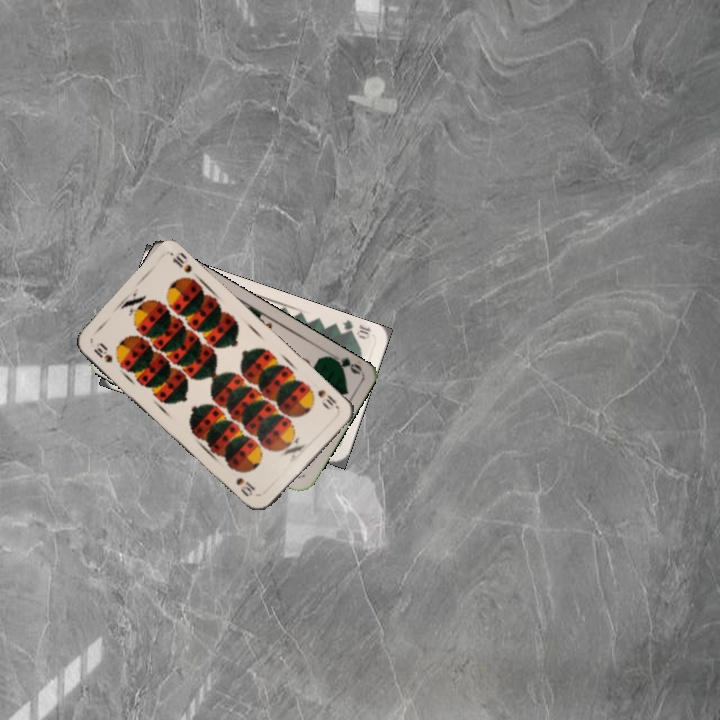G10: (333, 317, 374, 342)
GO: (324, 352, 364, 377)
S10: (89, 339, 116, 366), (314, 385, 339, 409)
